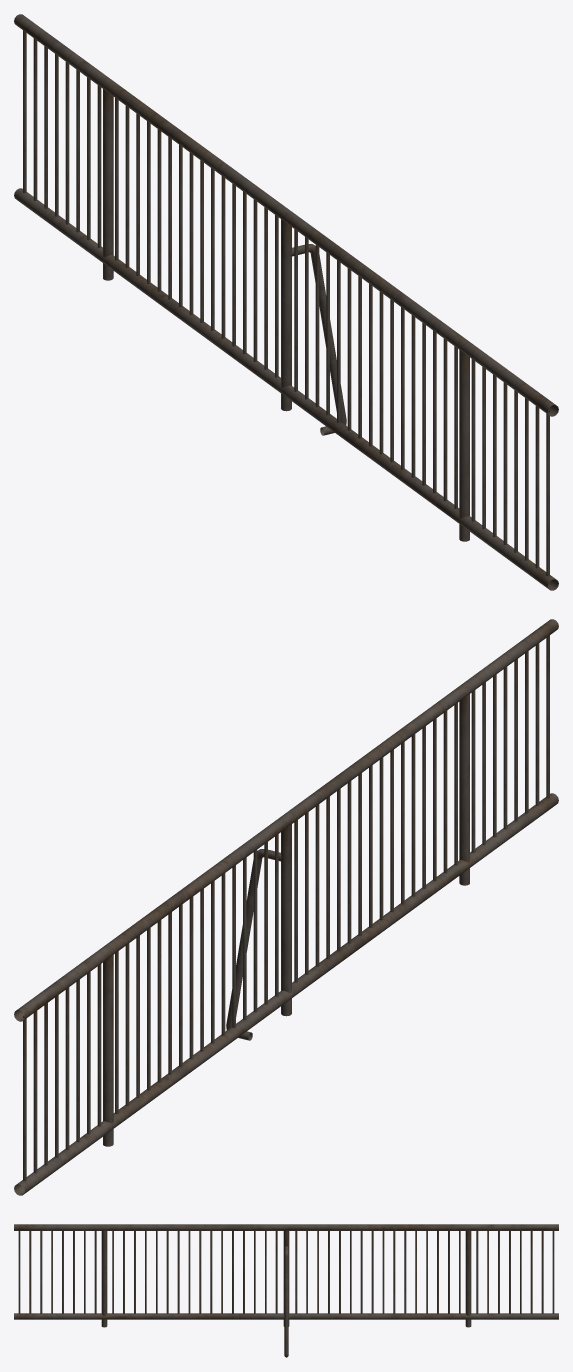
File: SM_RoofFence_01.fbx
The picture shows the model from 3 angles, top to bottom: view 1: azimuth 30°, elevation 25°; view 2: azimuth 150°, elevation 25°; view 3: azimuth 270°, elevation 25°; orthographic projection. The views are drawn at different scales.
Visible parts, largest first — view 1: SM_RoofFence_01_LOD0; view 2: SM_RoofFence_01_LOD0; view 3: SM_RoofFence_01_LOD0.
Boxes of the visible parts, box(x1,y1,x2,y2) form: SM_RoofFence_01_LOD0: box(14, 14, 558, 590); SM_RoofFence_01_LOD0: box(14, 619, 558, 1195); SM_RoofFence_01_LOD0: box(14, 1224, 558, 1357).
Size of the model in its own units: 35.32 by 500 by 121.
1 material, 1 textured.
